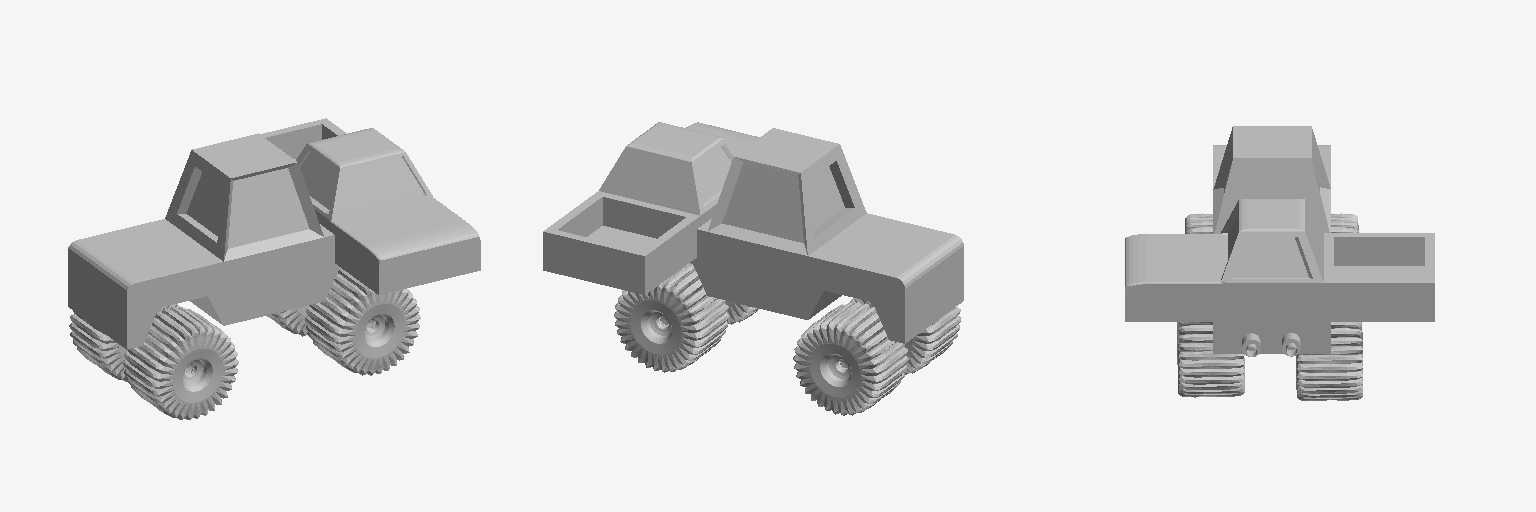
Rendered from monster_truck2.obj.
3 views of the same model, side by side, from view 1: azimuth 30°, elevation 25°; view 2: azimuth 150°, elevation 25°; view 3: azimuth 270°, elevation 25° (orthographic).
Parts seen in each view (by area): view 1: Cubo.001, Cubo, Cilindro.001_Cilindro.002, Cilindro.002_Cilindro.003, Cilindro.004_Cilindro.005, Cilindro.003_Cilindro.004; view 2: Cubo.001, Cubo, Cilindro.004_Cilindro.005, Cilindro.003_Cilindro.004, Cilindro.001_Cilindro.002; view 3: Cubo, Cubo.001, Cilindro.003_Cilindro.004, Cilindro.002_Cilindro.003, Cilindro_Cilindro.001, Cilindro.001_Cilindro.002.
Part boxes in pixels (left/top/right/bottom): Cubo.001: left=68, top=133, right=339, bottom=349; Cubo: left=260, top=118, right=480, bottom=294; Cilindro.001_Cilindro.002: left=123, top=306, right=238, bottom=419; Cilindro.002_Cilindro.003: left=305, top=267, right=420, bottom=375; Cilindro.004_Cilindro.005: left=69, top=304, right=179, bottom=381; Cilindro.003_Cilindro.004: left=267, top=305, right=309, bottom=336; Cubo.001: left=692, top=128, right=963, bottom=343; Cubo: left=543, top=122, right=759, bottom=294; Cilindro.004_Cilindro.005: left=793, top=302, right=908, bottom=415; Cilindro.003_Cilindro.004: left=614, top=263, right=729, bottom=372; Cilindro.001_Cilindro.002: left=850, top=298, right=960, bottom=374; Cubo: left=1125, top=199, right=1434, bottom=321; Cubo.001: left=1213, top=126, right=1330, bottom=353; Cilindro.003_Cilindro.004: left=1296, top=322, right=1362, bottom=400; Cilindro.002_Cilindro.003: left=1177, top=322, right=1244, bottom=397; Cilindro_Cilindro.001: left=1242, top=333, right=1300, bottom=356; Cilindro.001_Cilindro.002: left=1185, top=213, right=1212, bottom=233.
Bounding box in the file's own units: 6.38 × 3.99 × 5.25.